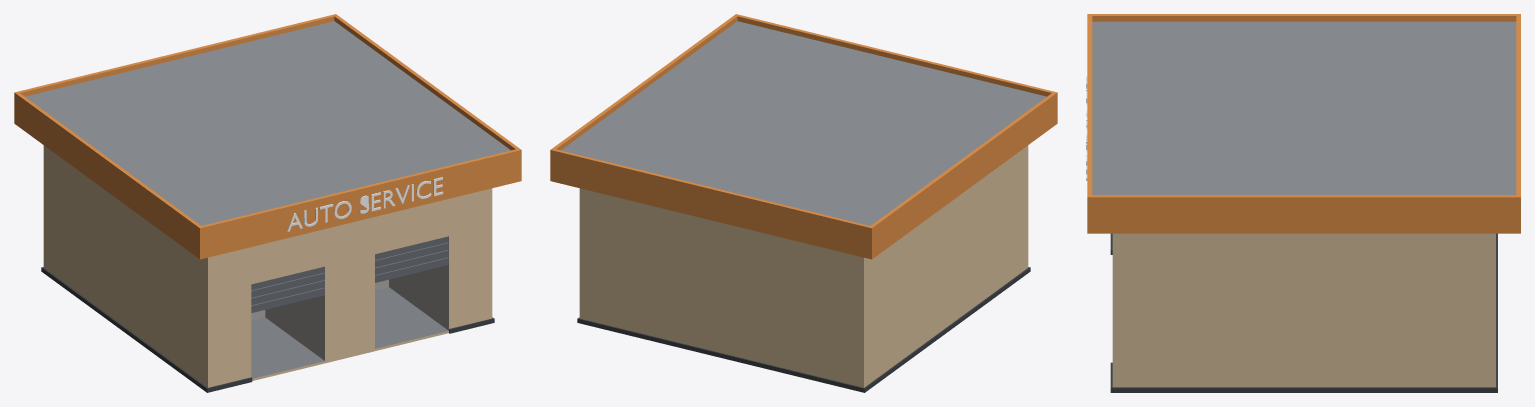
File: Auto Service_1.fbx
The picture shows the model from 3 angles, left to right: view 1: azimuth 30°, elevation 25°; view 2: azimuth 150°, elevation 25°; view 3: azimuth 270°, elevation 25°; orthographic projection. The views are drawn at different scales.
Visible parts, largest first — view 1: Auto Service_1; view 2: Auto Service_1; view 3: Auto Service_1.
Part boxes in pixels (x1=…): Auto Service_1: x1=14, y1=14, x2=521, y2=392; Auto Service_1: x1=550, y1=14, x2=1057, y2=392; Auto Service_1: x1=1086, y1=14, x2=1520, y2=392.
Bounding box in the file's own units: 1258 × 658 × 1262.
